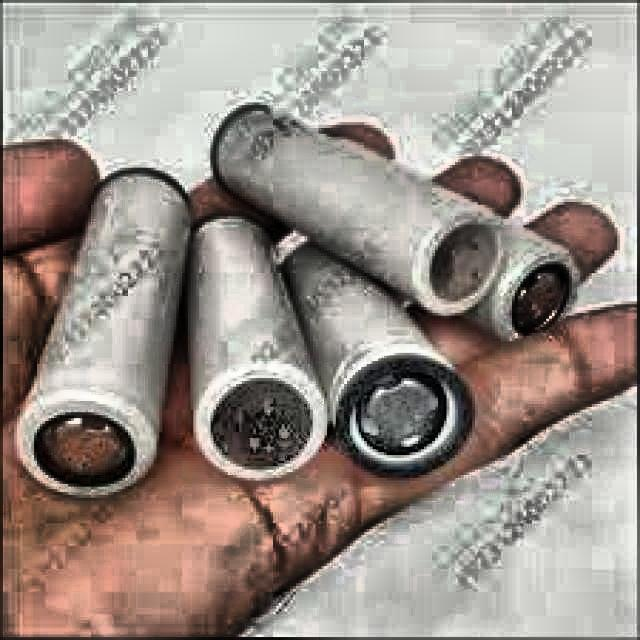battery: (213, 105, 577, 338), (17, 168, 188, 495), (284, 245, 472, 480), (191, 216, 326, 484)
